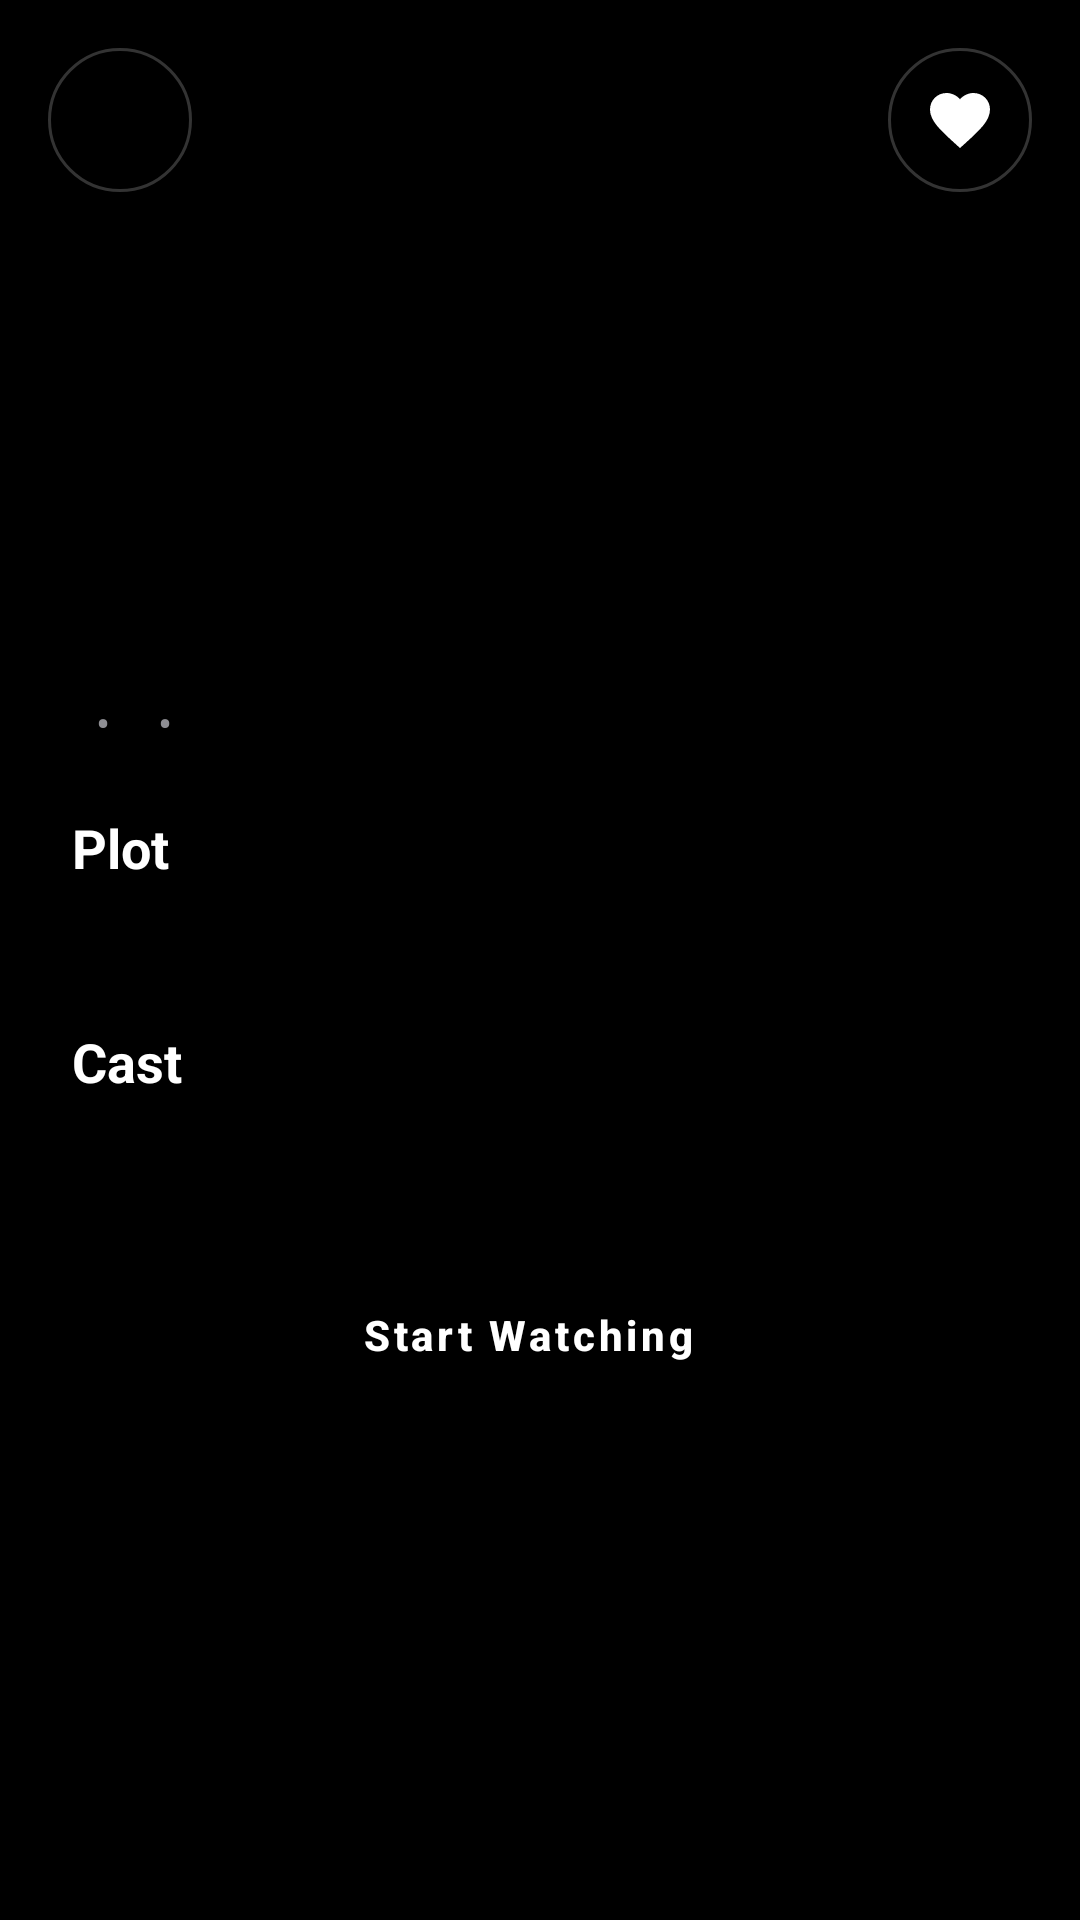

Named icons in this screenshot (1080 × 1920) and their bounding boxes, box(x1, y1, x2, y2):
Favorite: box(888, 48, 1032, 192)
